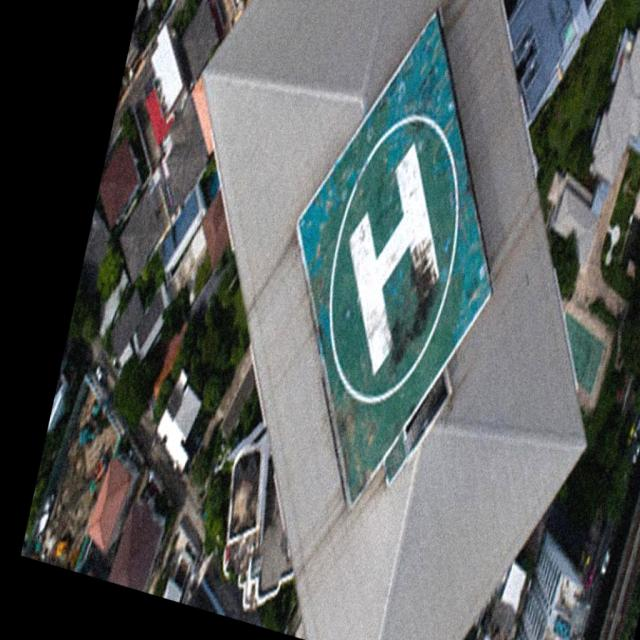helipad: (323, 110, 467, 408)
